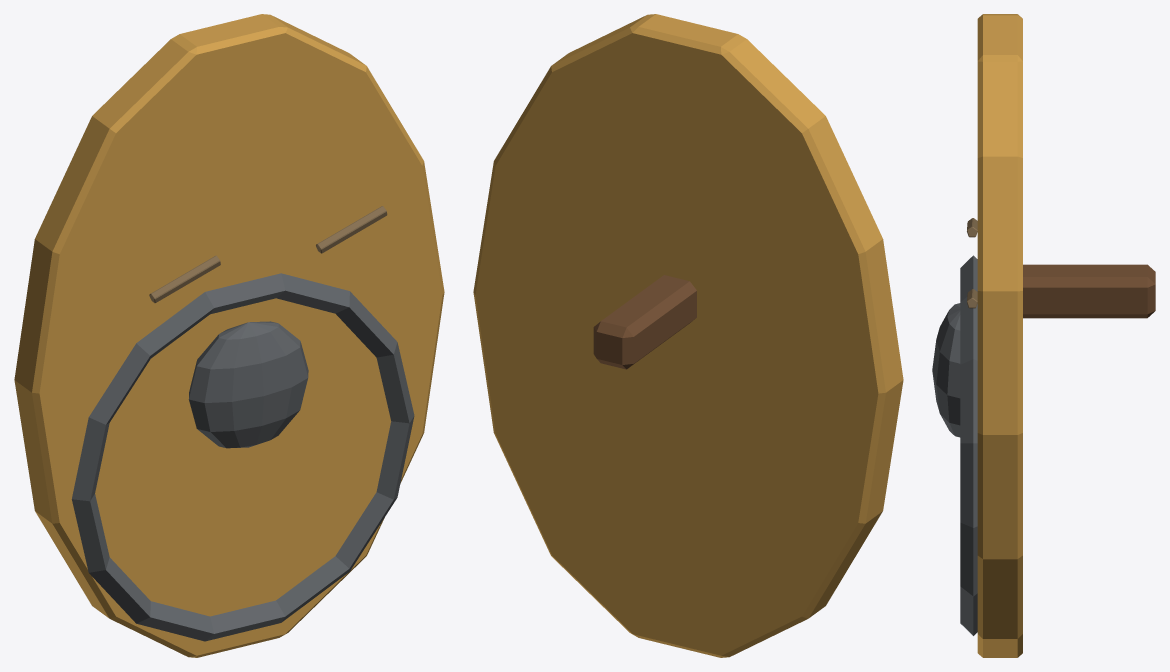
The model's file is runtime.glb.
3 renders of one model, left to right at view 1: azimuth 30°, elevation 25°; view 2: azimuth 150°, elevation 25°; view 3: azimuth 270°, elevation 25°, orthographic.
Parts seen in each view (by area): view 1: falkenwacht-wall-shield-v04_nocol; view 2: falkenwacht-wall-shield-v04_nocol; view 3: falkenwacht-wall-shield-v04_nocol.
Boxes of the visible parts, x1=… form: falkenwacht-wall-shield-v04_nocol: x1=14, y1=14, x2=444, y2=657; falkenwacht-wall-shield-v04_nocol: x1=473, y1=14, x2=903, y2=657; falkenwacht-wall-shield-v04_nocol: x1=932, y1=14, x2=1155, y2=657.
Bounding box in the file's own units: 1.13 × 1.6 × 0.5376.
